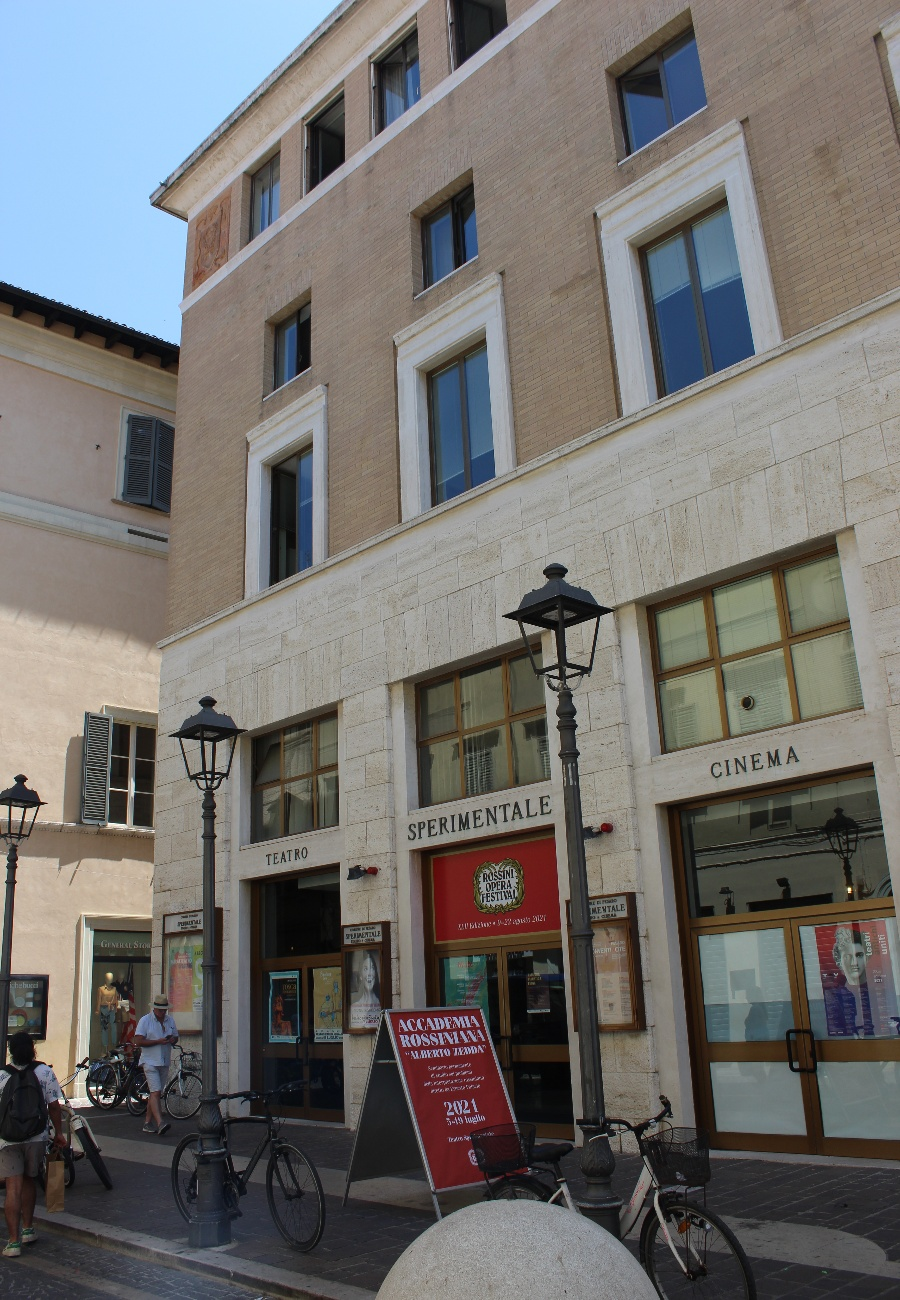Teatro Sperimentale: (152, 1, 900, 1175)
